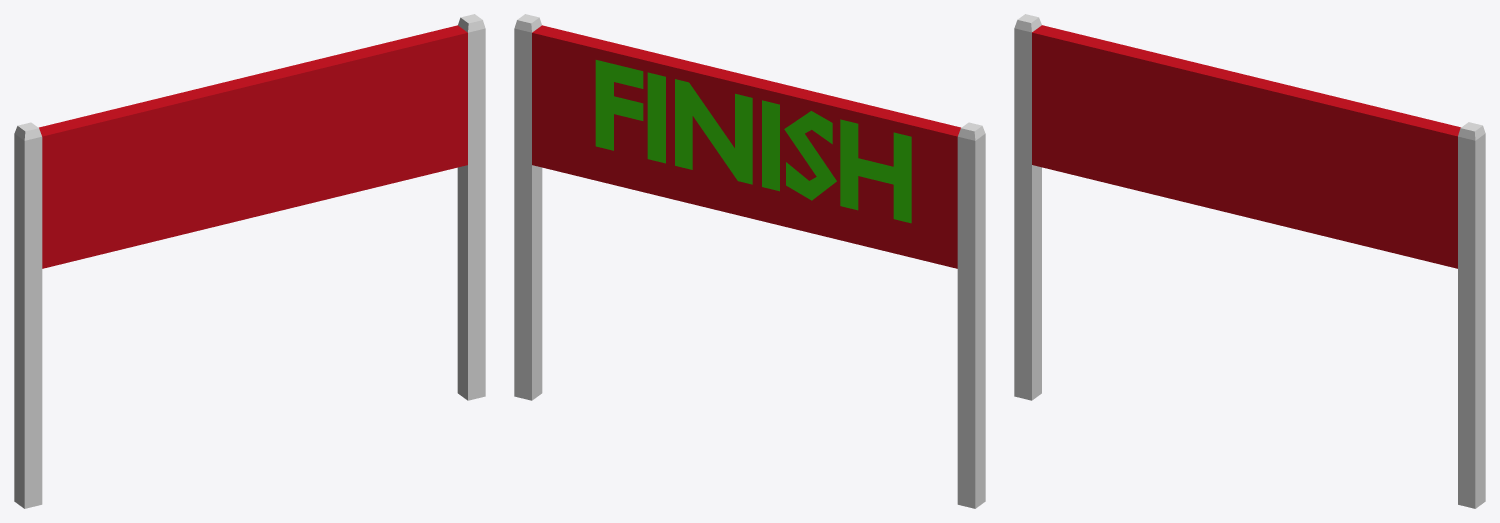
The model's file is FINISH.fbx.
3 renders of one model, left to right at view 1: azimuth 30°, elevation 25°; view 2: azimuth 150°, elevation 25°; view 3: azimuth 330°, elevation 25°, orthographic.
Visible parts, largest first — view 1: Cube; view 2: Cube, Text; view 3: Cube.
Boxes of the visible parts, box(x1,y1,x2,y2) form: Cube: box(14, 14, 485, 508); Cube: box(514, 14, 985, 508); Text: box(595, 60, 911, 223); Cube: box(1014, 14, 1485, 508).
Size of the model in its own units: 416 by 324 by 17.01.
